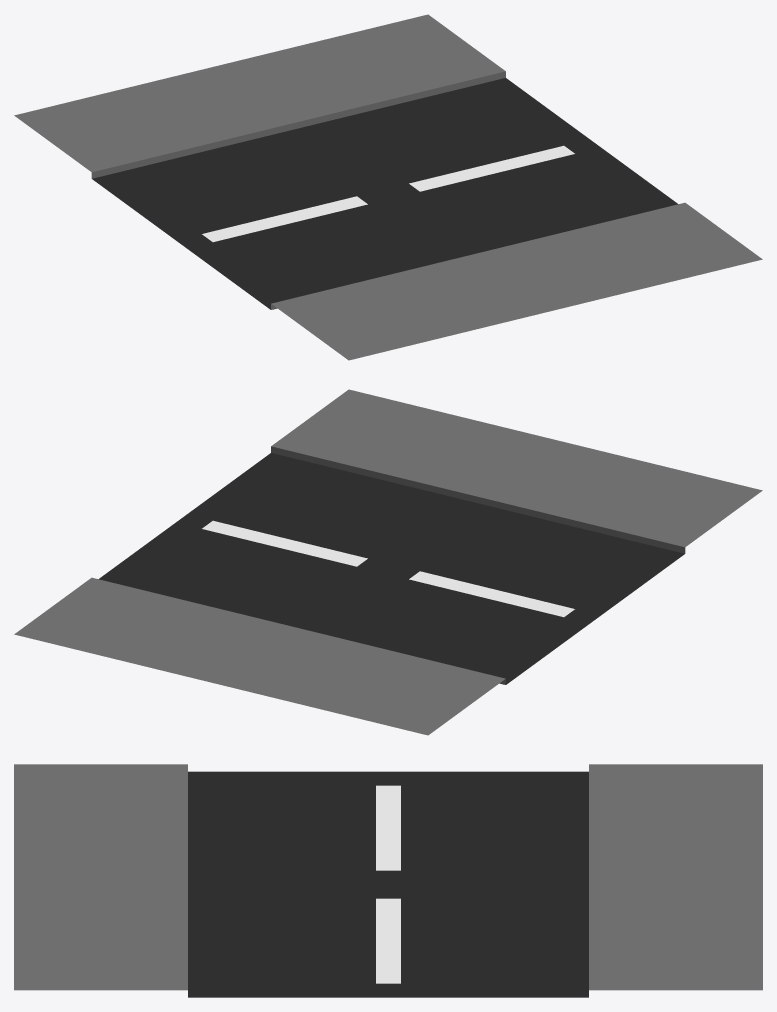
The model's file is straightRoad.obj.
3 renders of one model, top to bottom at view 1: azimuth 30°, elevation 25°; view 2: azimuth 150°, elevation 25°; view 3: azimuth 270°, elevation 25°, orthographic. The views are drawn at different scales.
Visible parts, largest first — view 1: Plane; view 2: Plane; view 3: Plane.
Part boxes in pixels (x1,y1,x2,y2): Plane: [14, 14, 762, 360]; Plane: [14, 389, 762, 735]; Plane: [14, 764, 762, 997].
Bounding box in the file's own units: 10 × 0.15 × 14.
